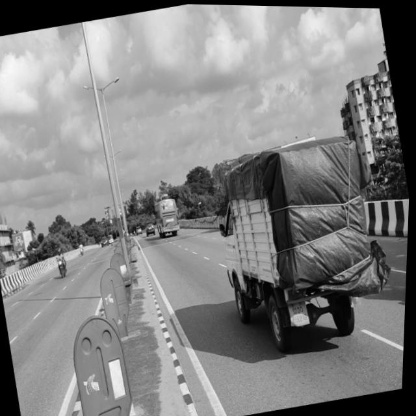truck: (202, 125, 406, 361)
